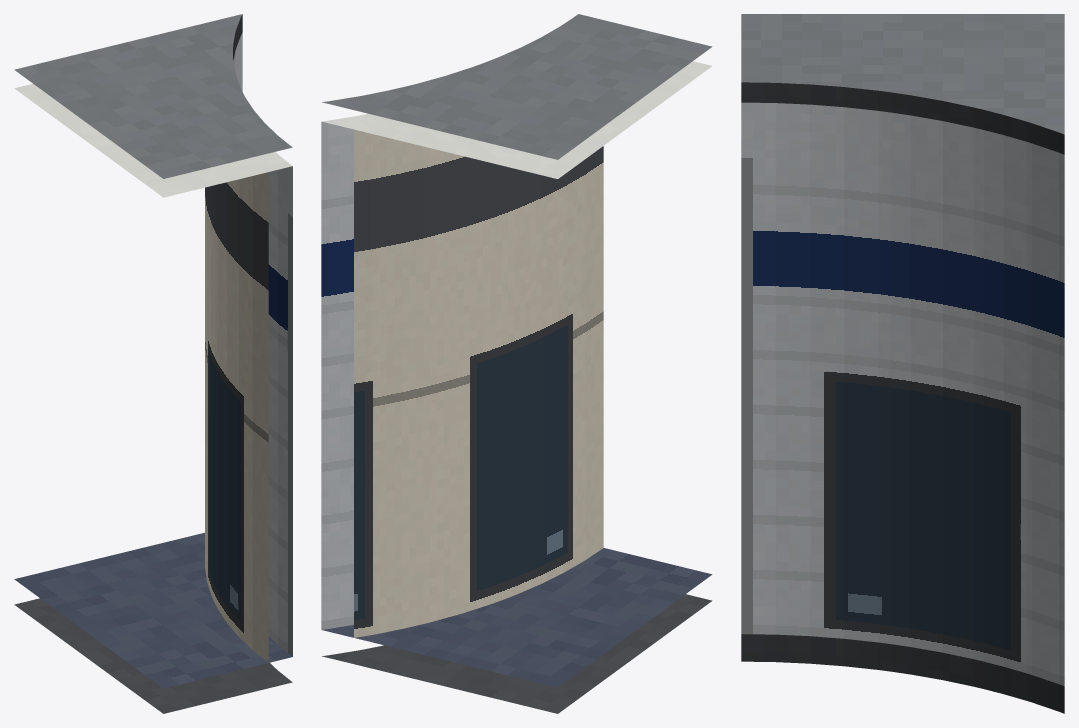
Rendered from airport_jet_bridge_turn_c7.obj.
The picture shows the model from 3 angles, left to right: view 1: azimuth 30°, elevation 25°; view 2: azimuth 150°, elevation 25°; view 3: azimuth 270°, elevation 25°; orthographic projection. The views are drawn at different scales.
Parts seen in each view (by area): view 1: airport_jet_bridge_turn_c7; view 2: airport_jet_bridge_turn_c7; view 3: airport_jet_bridge_turn_c7.
Part boxes in pixels (x1,y1,x2,y2): airport_jet_bridge_turn_c7: [14, 14, 292, 713]; airport_jet_bridge_turn_c7: [321, 14, 712, 713]; airport_jet_bridge_turn_c7: [741, 14, 1064, 713].
Size of the model in its own units: 0.8829 by 1.98 by 1.
